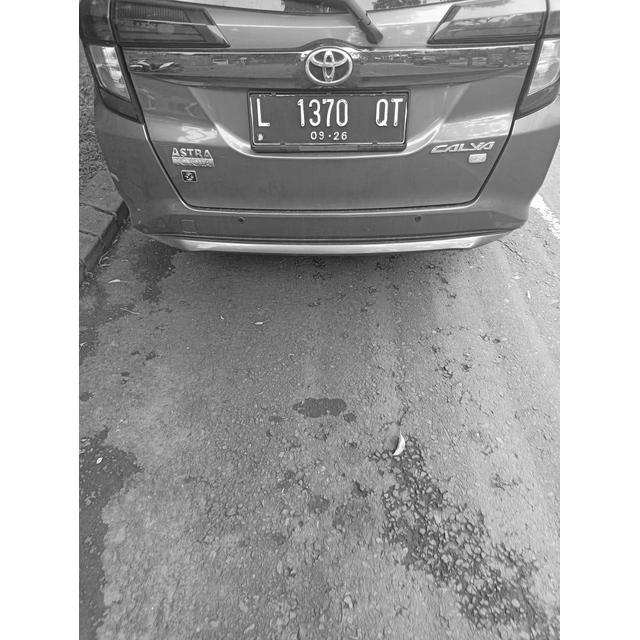license: (252, 96, 406, 142)
